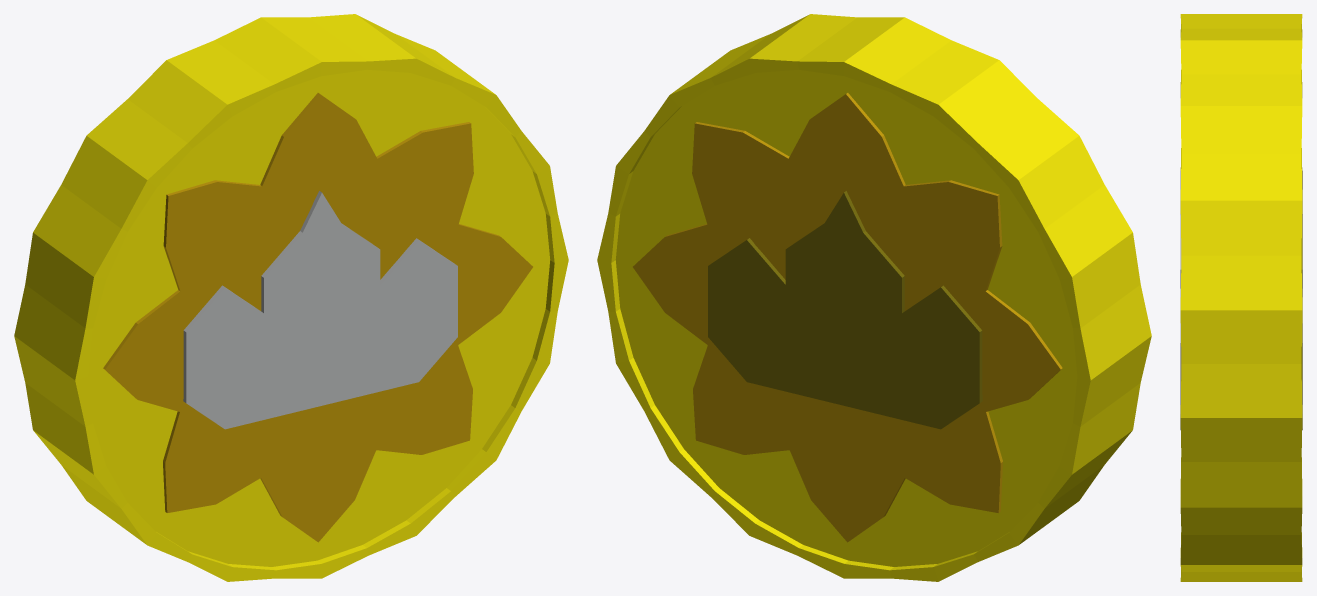
The model's file is coin.fbx.
3 renders of one model, left to right at view 1: azimuth 30°, elevation 25°; view 2: azimuth 150°, elevation 25°; view 3: azimuth 270°, elevation 25°, orthographic.
Parts seen in each view (by area): view 1: Plane; view 2: Plane; view 3: Plane.
Part boxes in pixels (x1,y1,x2,y2): Plane: (14,14,568,581); Plane: (597,14,1151,581); Plane: (1180,14,1302,581).
Bounding box in the file's own units: 205 × 205 × 44.01.
Materials: 1 (1 with a texture image).
